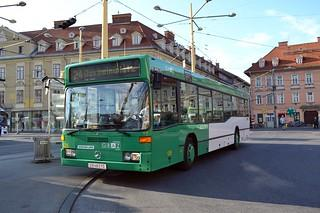bus: (60, 56, 251, 175)
